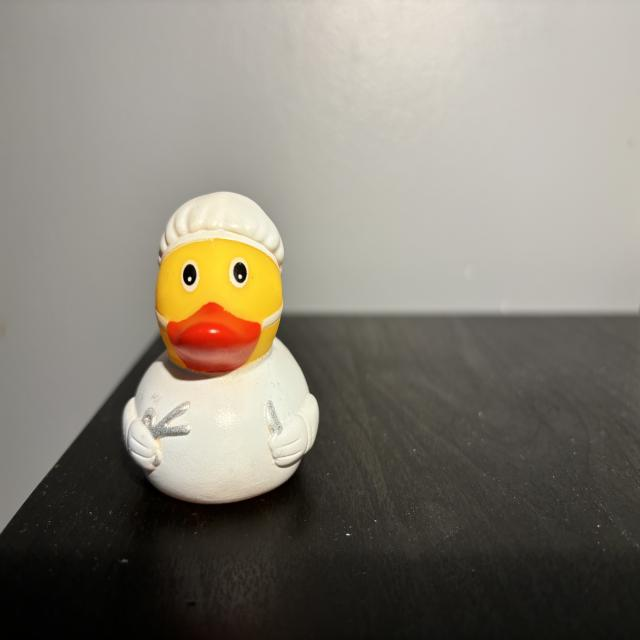duck_specialty: (123, 192, 320, 504)
